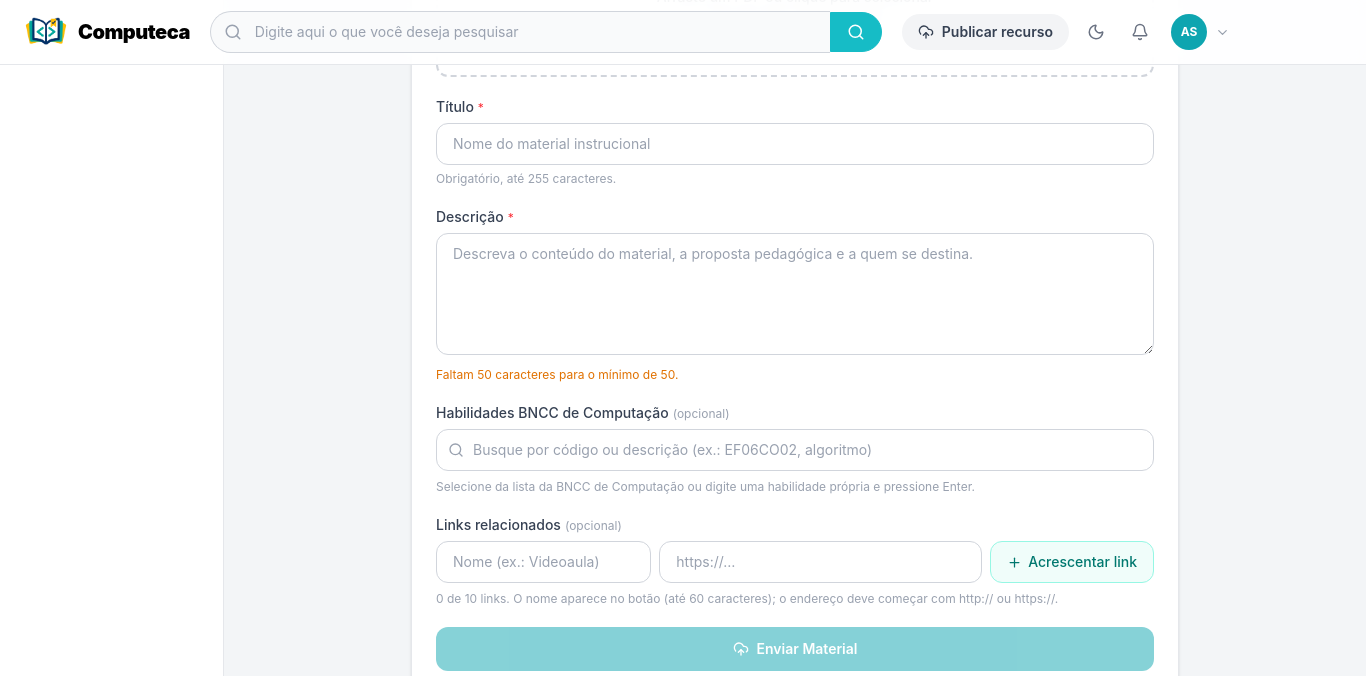
it: UploadPage › permite adicionar uma habilidade personalizada fora da lista
(page scrolled)
Type "minha-hab-01" into the field labelled "Habilidades BNCC de Computação(opcional)" at (795, 450), box [436, 429, 1154, 471]
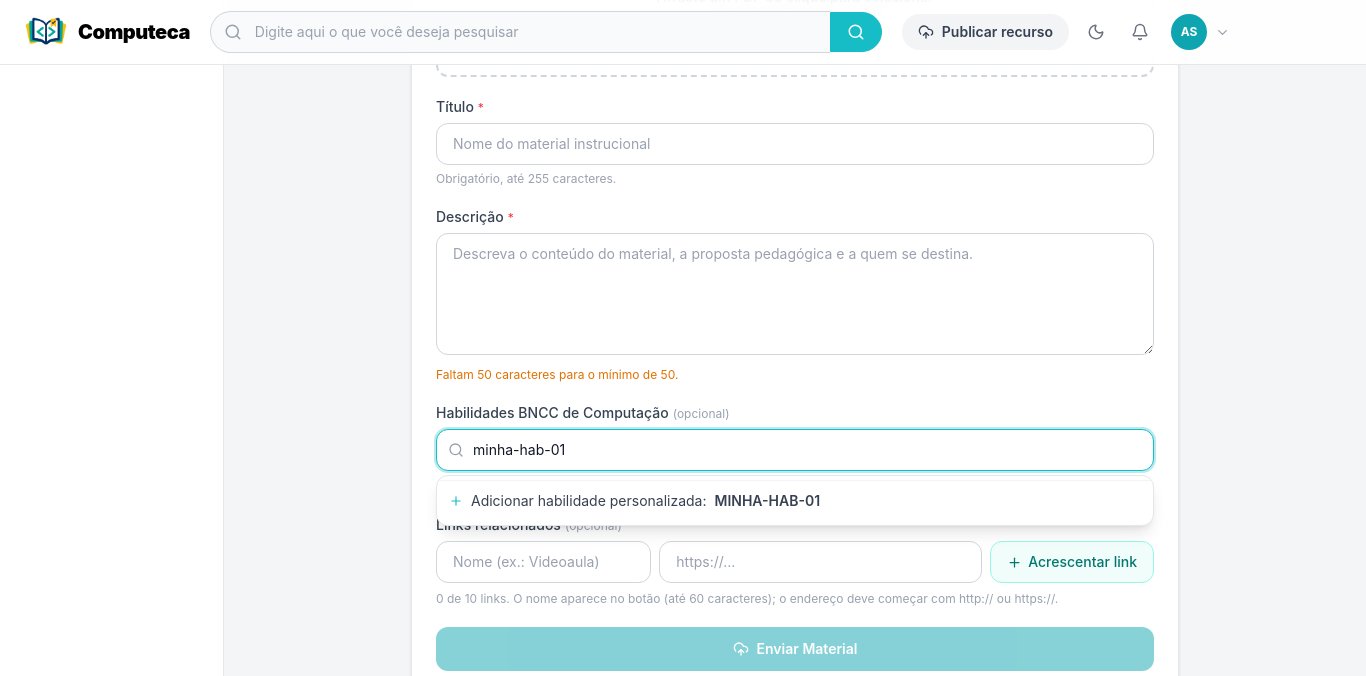
Click the button "Adicionar habilidade personalizada: MINHA-HAB-01" at (795, 500), box [437, 480, 1153, 521]
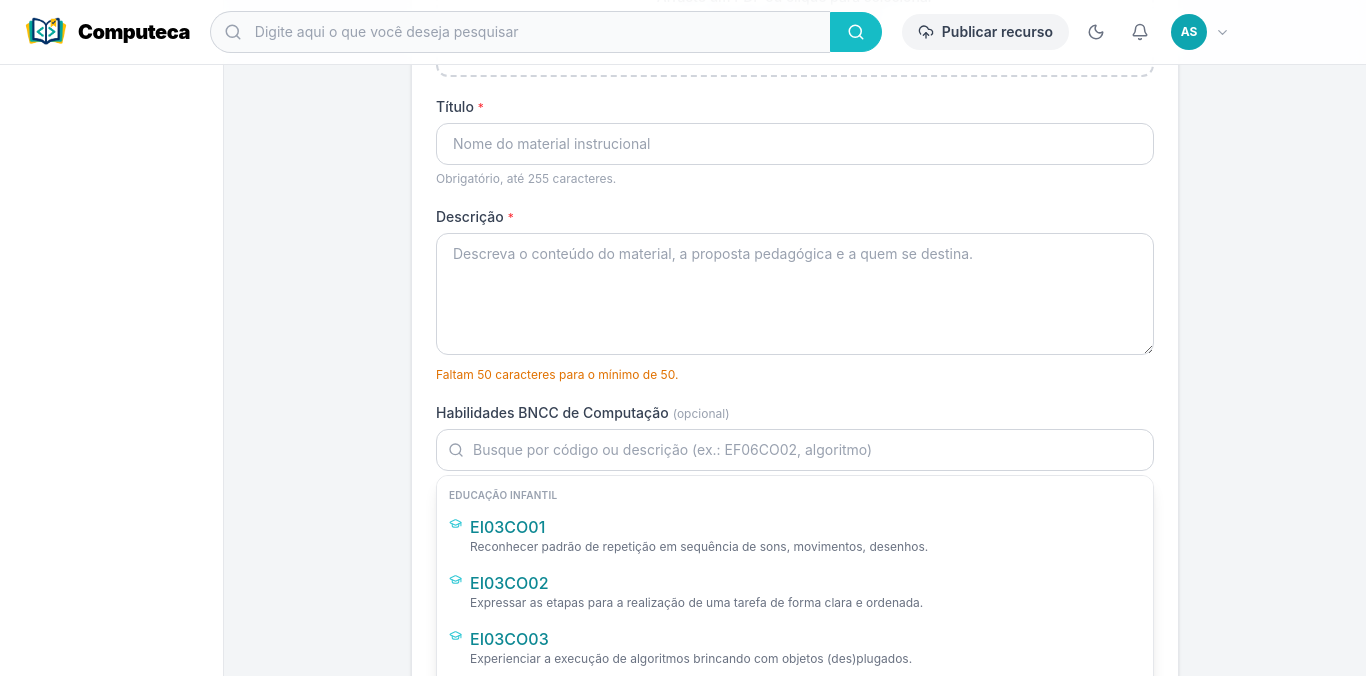
Expected: the button named "Remover MINHA-HAB-01" is shown, [542, 486, 558, 502]
